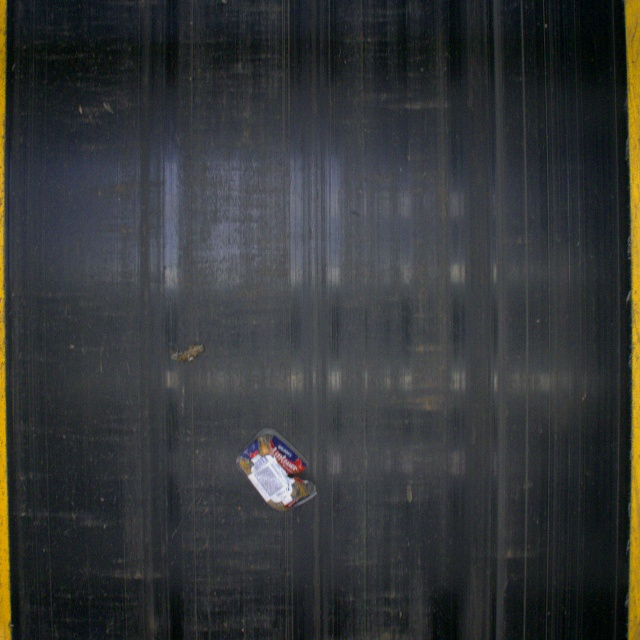Foodgrade: (235, 425, 317, 510)
